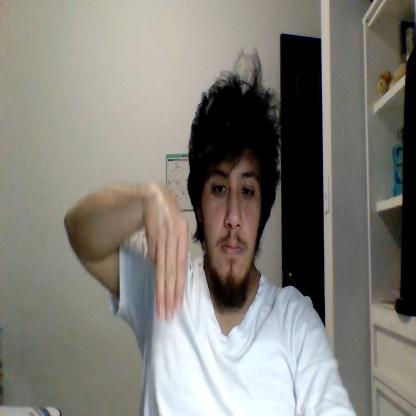M: (147, 185, 188, 322)
